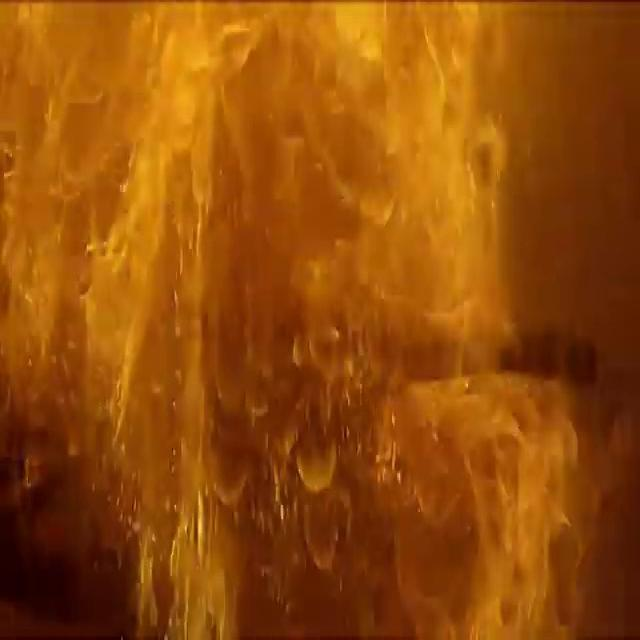fire: (4, 2, 634, 640)
